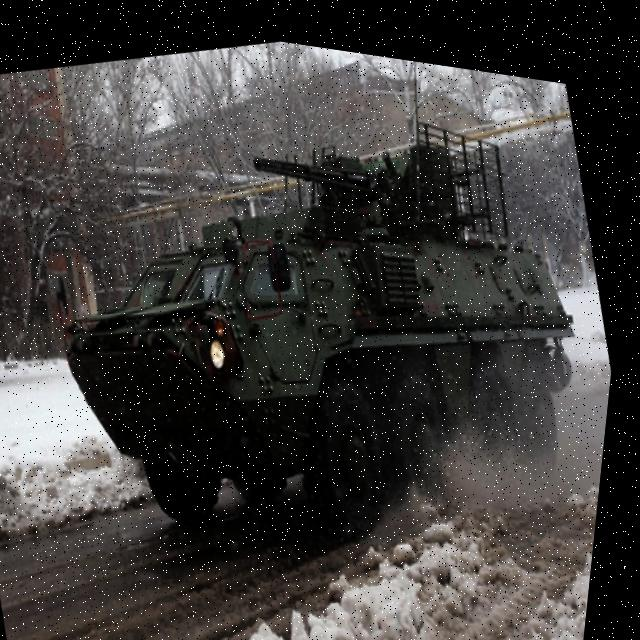MIL_APC: (8, 37, 634, 615)
